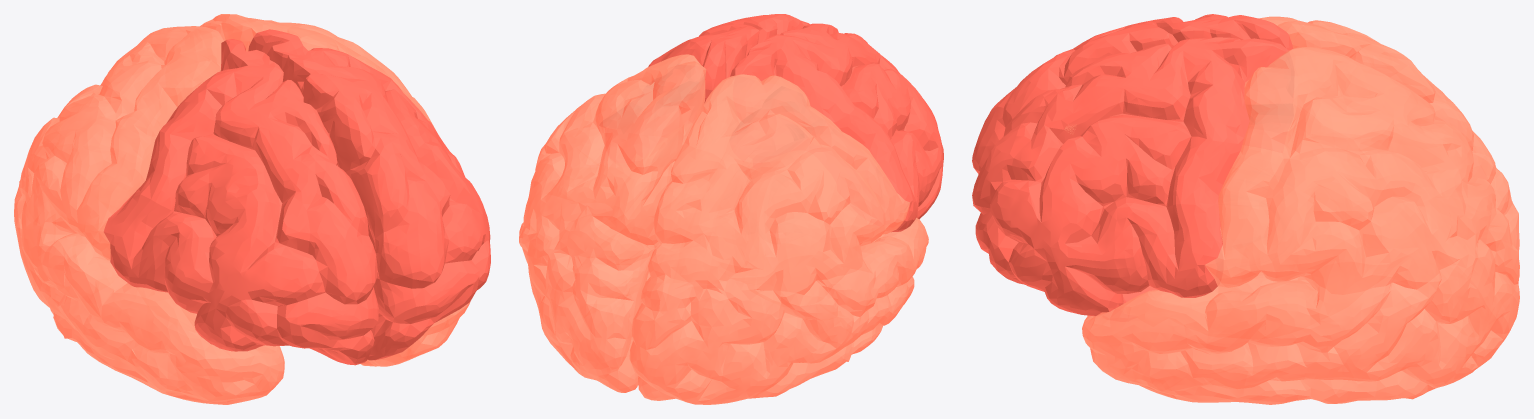
File: brain-development.fbx
3 views of the same model, side by side, from view 1: azimuth 30°, elevation 25°; view 2: azimuth 150°, elevation 25°; view 3: azimuth 270°, elevation 25° (orthographic). The views are drawn at different scales.
Visible parts, largest first — view 1: R_Frontal Lobe, R_Brain, L_Frontal Lobe, L_Brain; view 2: R_Brain, L_Brain, R_Frontal Lobe, L_Frontal Lobe; view 3: L_Brain, L_Frontal Lobe, R_Brain, R_Frontal Lobe.
Part boxes in pixels (x1,y1,x2,y2): R_Frontal Lobe: [103, 39, 378, 365]; R_Brain: [14, 26, 284, 404]; L_Frontal Lobe: [248, 29, 490, 360]; L_Brain: [200, 14, 470, 366]; R_Brain: [629, 74, 928, 404]; L_Brain: [519, 54, 713, 392]; R_Frontal Lobe: [730, 23, 943, 240]; L_Frontal Lobe: [600, 14, 809, 162]; L_Brain: [1064, 46, 1519, 404]; L_Frontal Lobe: [972, 37, 1293, 321]; R_Brain: [1238, 16, 1519, 276]; R_Frontal Lobe: [972, 14, 1293, 174].
Bounding box in the file's own units: 0.5315 × 0.4142 × 0.6481.
